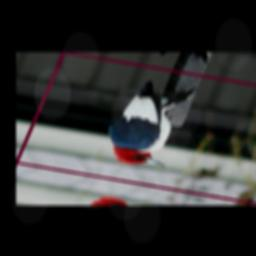Woodpecker: (93, 74, 201, 173)
